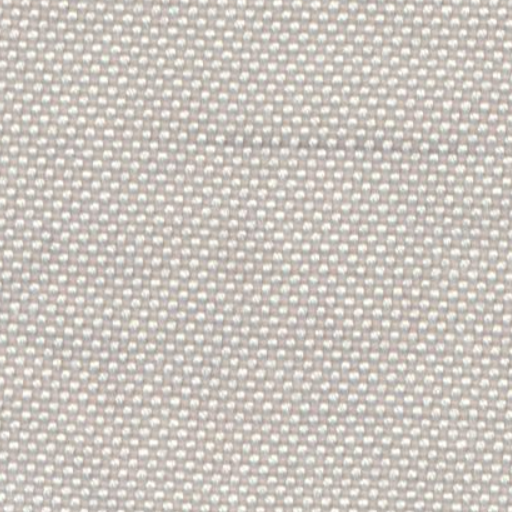WuZi: (205, 114, 484, 170)
